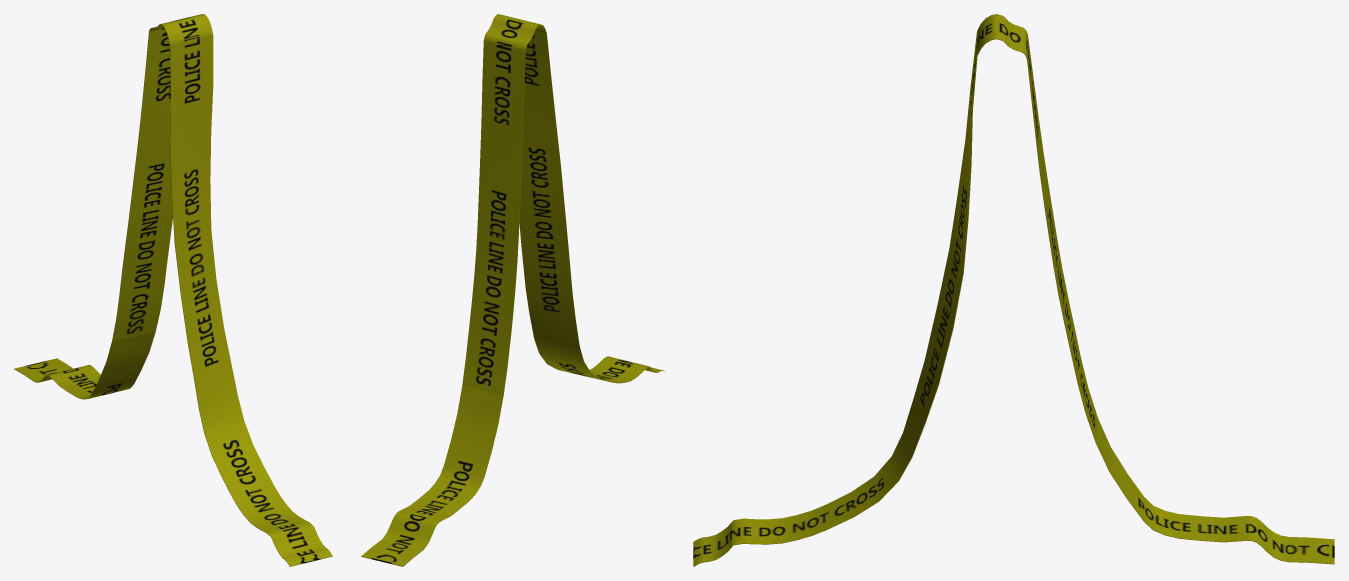
File: SM_Tape03.glb
3 views of the same model, side by side, from view 1: azimuth 30°, elevation 25°; view 2: azimuth 150°, elevation 25°; view 3: azimuth 270°, elevation 25° (orthographic). The views are drawn at different scales.
Parts seen in each view (by area): view 1: SM_Tape03; view 2: SM_Tape03; view 3: SM_Tape03.
Boxes of the visible parts, x1=… form: SM_Tape03: x1=14, y1=14, x2=332, y2=566; SM_Tape03: x1=361, y1=14, x2=664, y2=566; SM_Tape03: x1=693, y1=14, x2=1334, y2=566.
Size of the model in its own units: 0.1182 by 0.9975 by 1.1.
1 material, 1 textured.
